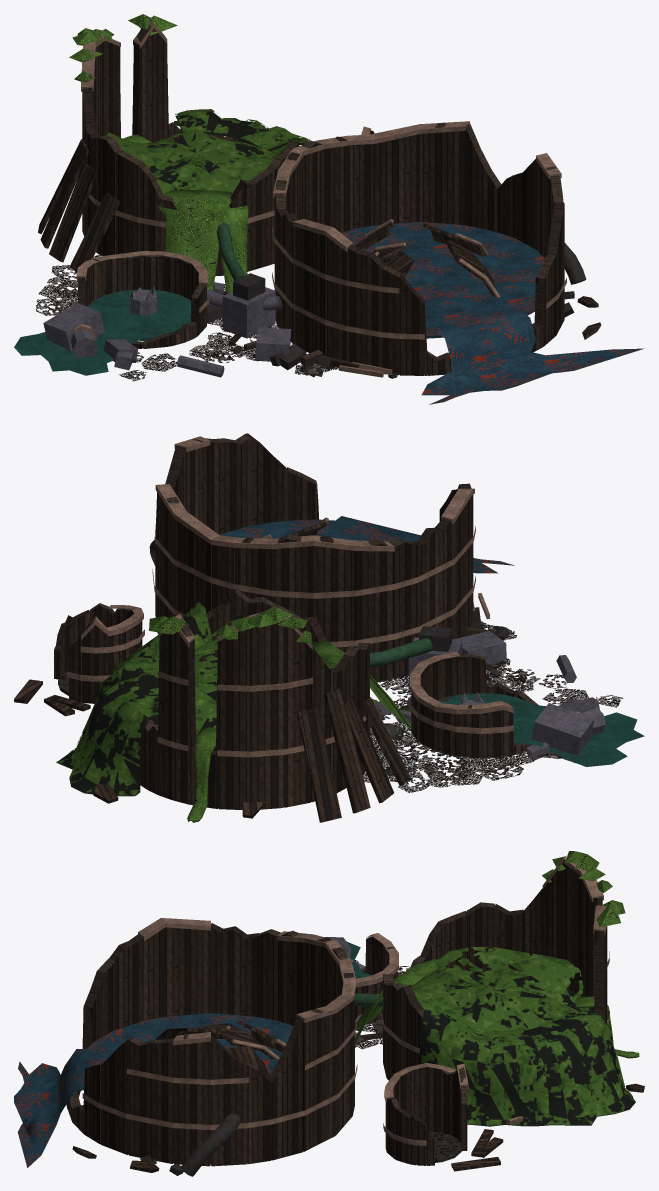
Rendered from CreInvent03a.glb.
The picture shows the model from 3 angles, top to bottom: view 1: azimuth 30°, elevation 25°; view 2: azimuth 150°, elevation 25°; view 3: azimuth 270°, elevation 25°; orthographic projection. The views are drawn at different scales.
Visible parts, largest first — view 1: i3_stave; view 2: i3_stave; view 3: i3_stave.
Boxes of the visible parts, x1=… form: i3_stave: x1=14, y1=14, x2=643, y2=404; i3_stave: x1=14, y1=433, x2=644, y2=822; i3_stave: x1=14, y1=851, x2=644, y2=1176.
Bounding box in the file's own units: 11.64 × 4.34 × 12.91.
Materials: 14 (13 with a texture image).
